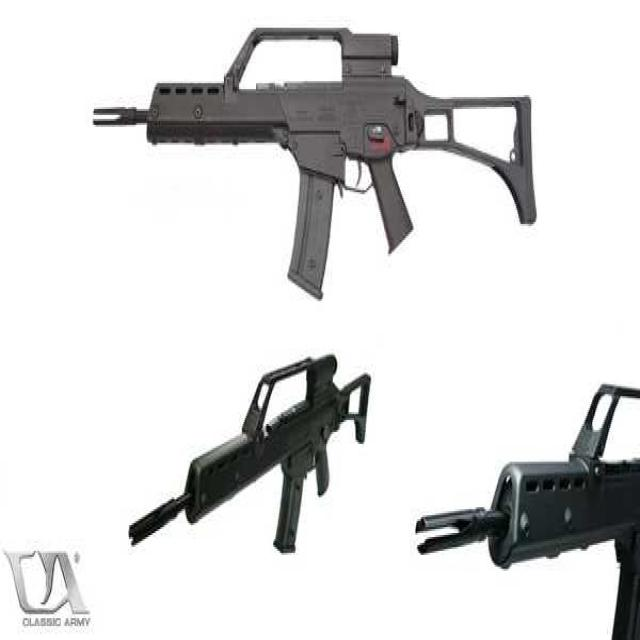Rifle: (90, 17, 538, 302), (125, 347, 374, 560)
